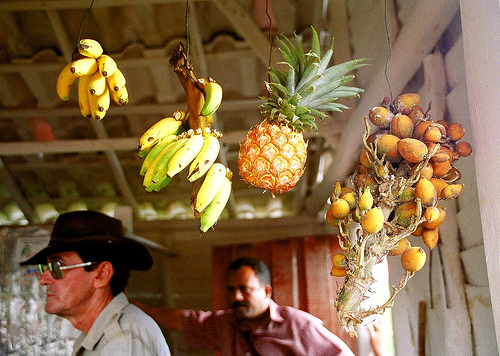pineapple: (237, 26, 371, 192)
